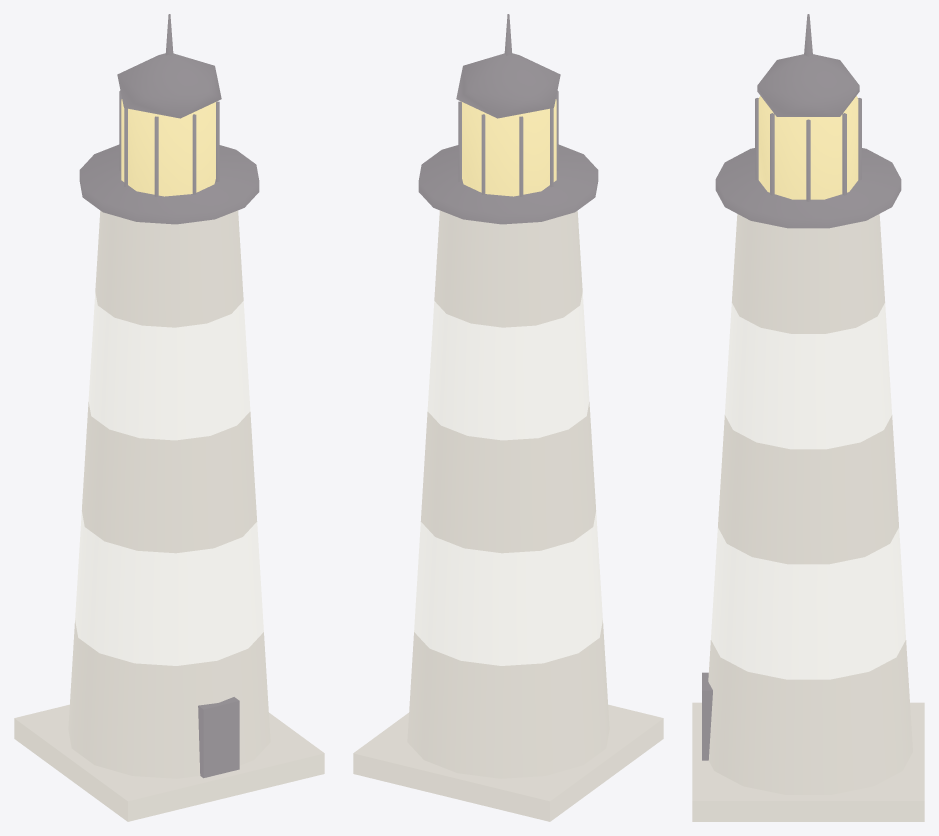
Rendered from Blender_Lighthouse.glb.
3 renders of one model, left to right at view 1: azimuth 30°, elevation 25°; view 2: azimuth 150°, elevation 25°; view 3: azimuth 270°, elevation 25°, orthographic. The views are drawn at different scales.
Parts seen in each view (by area): view 1: Blender_Lighthouse; view 2: Blender_Lighthouse; view 3: Blender_Lighthouse.
Part boxes in pixels (<box>): Blender_Lighthouse: <box>14,14,324,821</box>; Blender_Lighthouse: <box>353,14,663,821</box>; Blender_Lighthouse: <box>692,14,924,821</box>.
Size of the model in its own units: 6 by 21.6 by 6.
